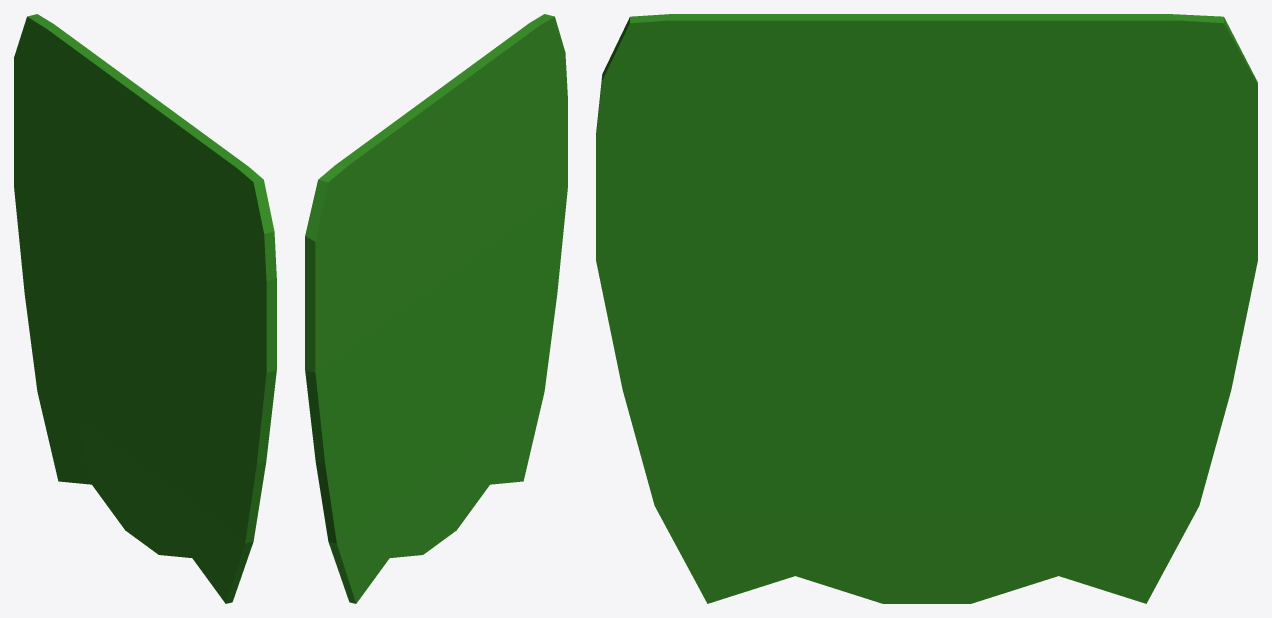
The picture shows the model from 3 angles, left to right: view 1: azimuth 30°, elevation 25°; view 2: azimuth 150°, elevation 25°; view 3: azimuth 270°, elevation 25°; orthographic projection. The views are drawn at different scales.
Visible parts, largest first — view 1: Plane; view 2: Plane; view 3: Plane.
Part boxes in pixels (x1=…): Plane: x1=14, y1=14, x2=276, y2=603; Plane: x1=305, y1=14, x2=567, y2=603; Plane: x1=596, y1=14, x2=1257, y2=603.
Bounding box in the file's own units: 4.73 × 195 × 200.
